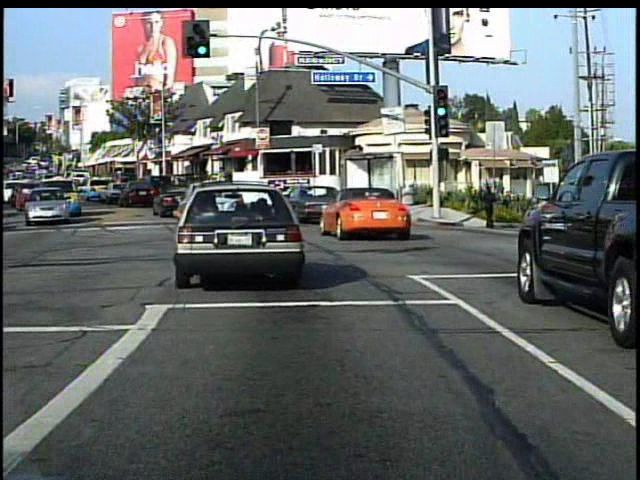person: (566, 185, 589, 246), (479, 182, 501, 229)
